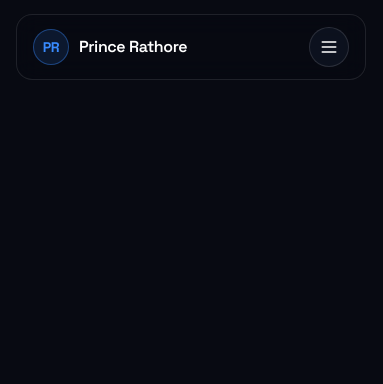
Test: Phase 3 Design System & Reusable Components › toggles Navbar mobile menu and closes on Escape key
Click the button named "open navigation menu" at (329, 47), box [309,27,349,67]
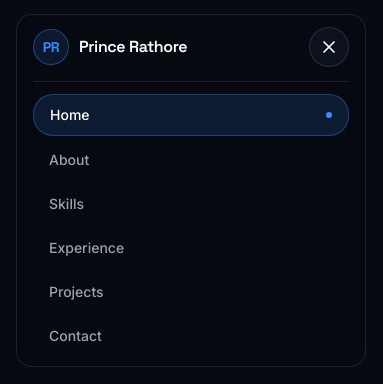
Expected: the button named "close navigation menu" is expanded, [309,27,349,67]
Expected: the element with id "mobile-navigation-drawer" is shown, [33,81,349,356]
Press Escape
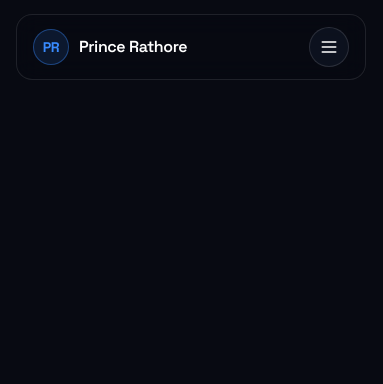
Expected: the element with id "mobile-navigation-drawer" is gone
